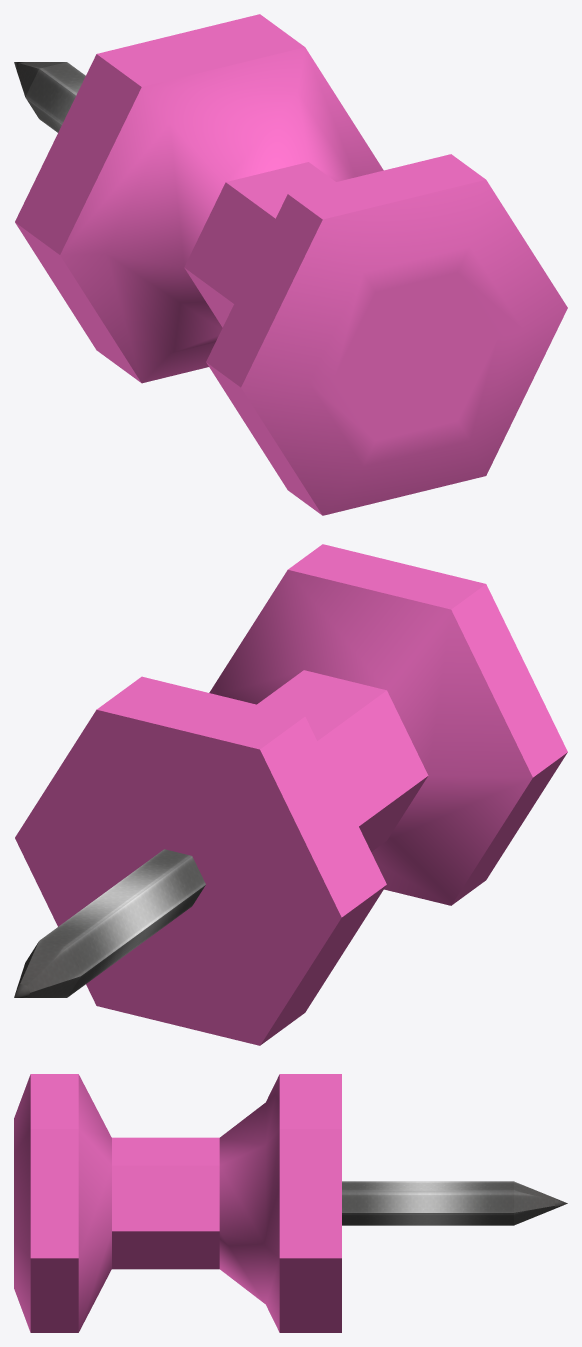
File: Tack_J.FBX
3 views of the same model, one above another, from view 1: azimuth 30°, elevation 25°; view 2: azimuth 150°, elevation 25°; view 3: azimuth 270°, elevation 25° (orthographic). The views are drawn at different scales.
Parts seen in each view (by area): view 1: Tack; view 2: Tack; view 3: Tack.
Part boxes in pixels (x1=…): Tack: x1=14, y1=14, x2=567, y2=515; Tack: x1=14, y1=544, x2=567, y2=1045; Tack: x1=14, y1=1074, x2=567, y2=1332.
Bounding box in the file's own units: 6.28 × 5.43 × 13.38.
